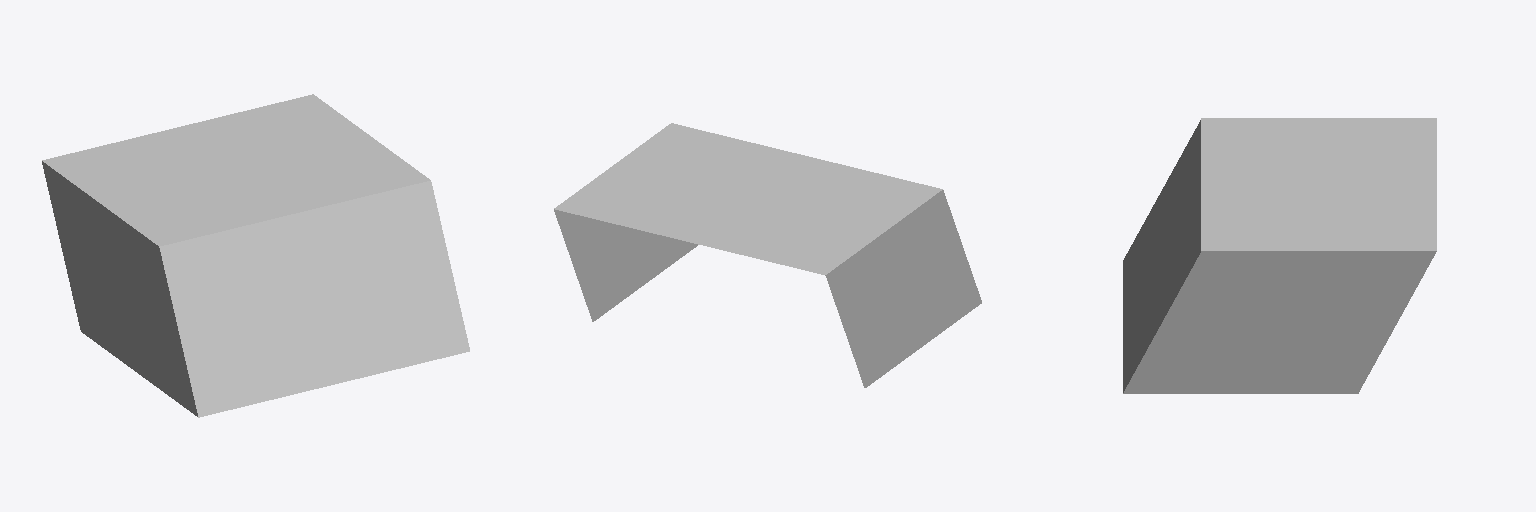
File: struct_building_house_medium.obj
3 renders of one model, left to right at view 1: azimuth 30°, elevation 25°; view 2: azimuth 150°, elevation 25°; view 3: azimuth 270°, elevation 25°, orthographic.
Parts seen in each view (by area): view 1: Default; view 2: Default; view 3: Default.
Part boxes in pixels (bbox=[...]): Default: bbox=[42, 94, 469, 417]; Default: bbox=[554, 123, 981, 387]; Default: bbox=[1123, 118, 1436, 393].
Bounding box in the file's own units: 4 × 2 × 4.